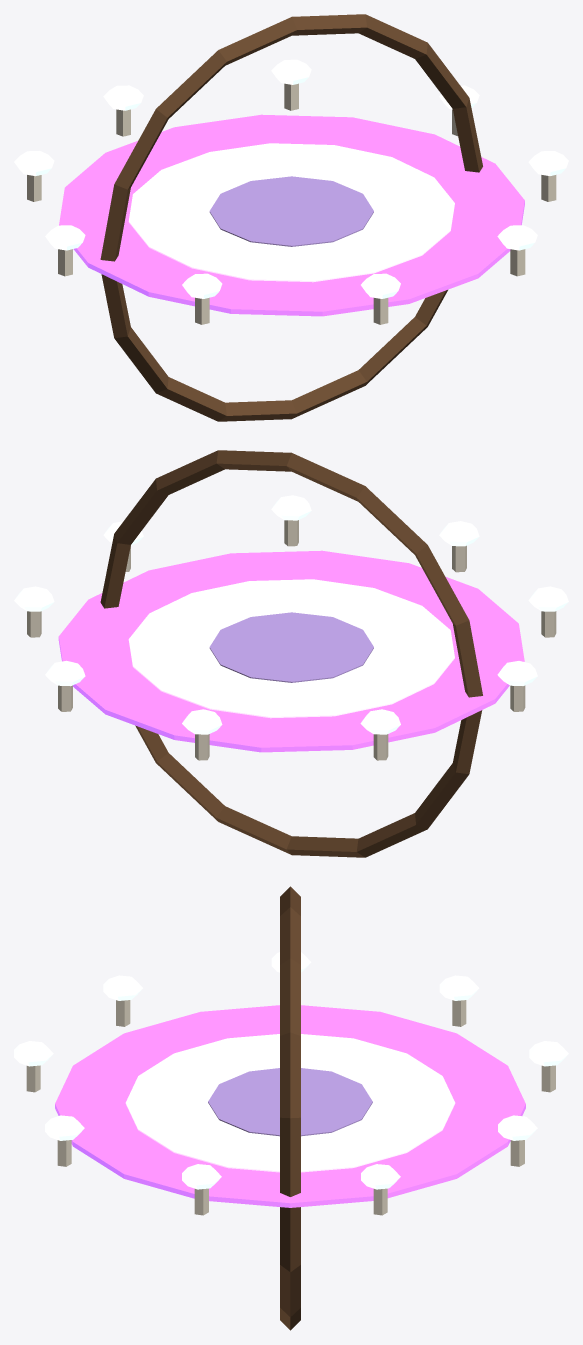
The model's file is portal.fbx.
The picture shows the model from 3 angles, top to bottom: view 1: azimuth 30°, elevation 25°; view 2: azimuth 150°, elevation 25°; view 3: azimuth 270°, elevation 25°; orthographic projection.
Visible parts, largest first — view 1: portal; view 2: portal; view 3: portal.
Part boxes in pixels (x1,y1,x2,y2): portal: (14,14,568,421); portal: (14,450,568,857); portal: (14,886,568,1330).
Size of the model in its own units: 8.38 by 6.8 by 8.49.
